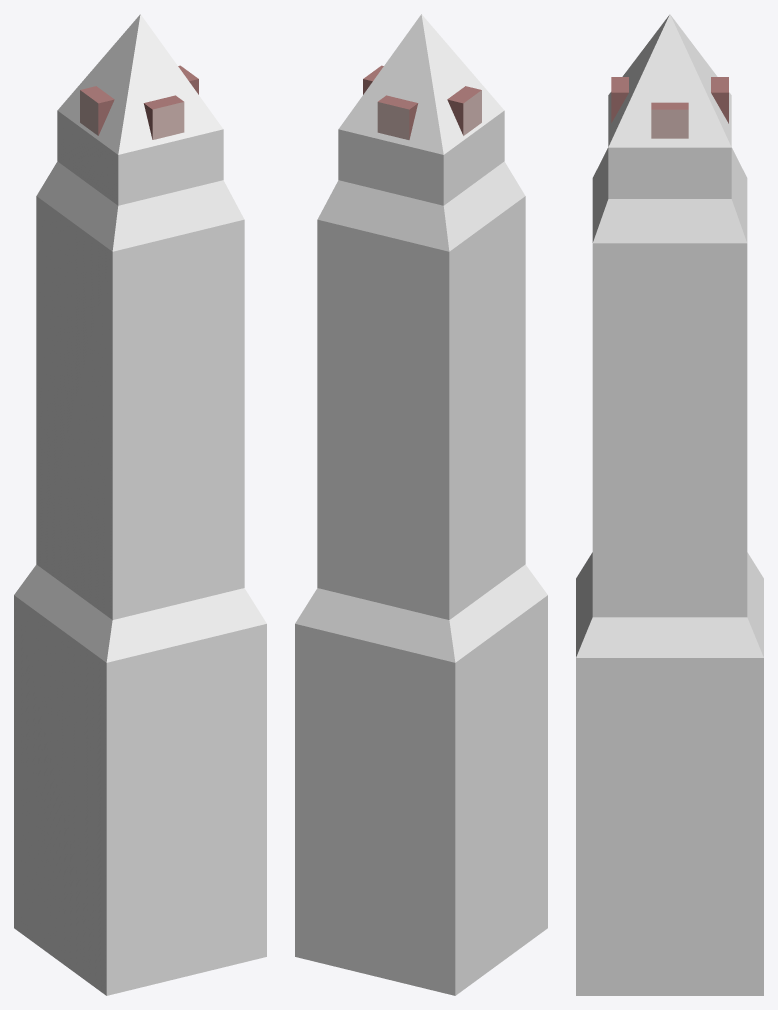
The model's file is Building_2.fbx.
3 renders of one model, left to right at view 1: azimuth 30°, elevation 25°; view 2: azimuth 150°, elevation 25°; view 3: azimuth 270°, elevation 25°, orthographic.
Visible parts, largest first — view 1: Cube.014; view 2: Cube.014; view 3: Cube.014.
Boxes of the visible parts, left/top/right/bottom form: Cube.014: left=14, top=14, right=266, bottom=995; Cube.014: left=295, top=14, right=547, bottom=995; Cube.014: left=576, top=14, right=763, bottom=995.
Size of the model in its own units: 156 by 864 by 156.
